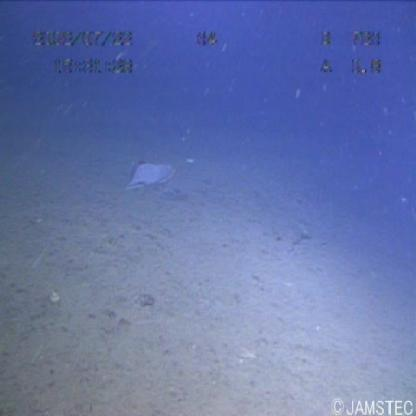Rác: (124, 152, 191, 198)
